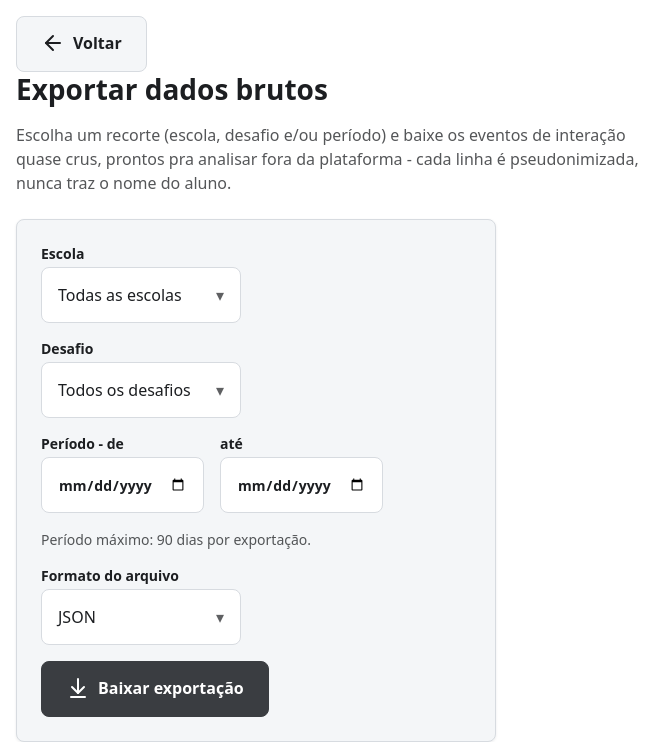
Test: AdminExport › rejects an incomplete period (only "from" filled) client-side, before hitting the API
Type "2026-01-01" into the date field labelled "Período - de" at (122, 485), box x1=41 y1=457 x2=204 y2=513
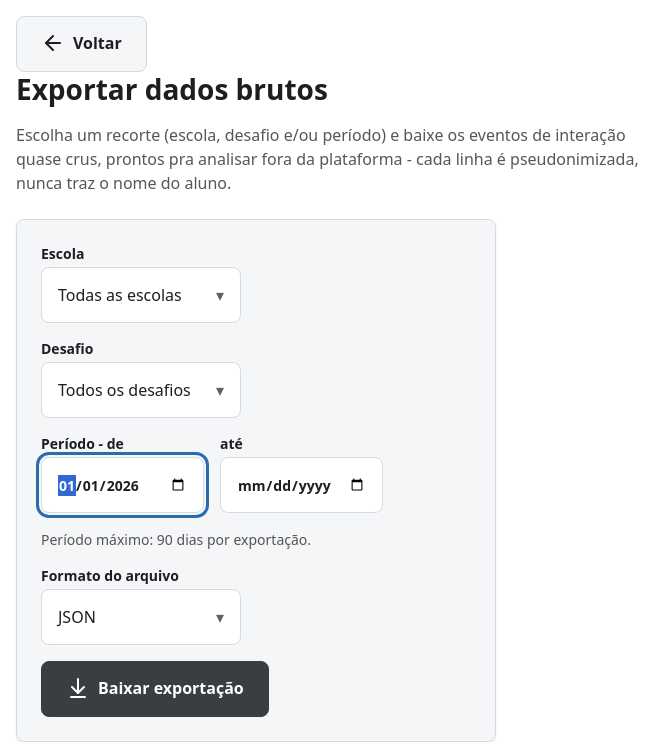
Click the button "Baixar exportação" at (155, 689), box x1=41 y1=661 x2=269 y2=717
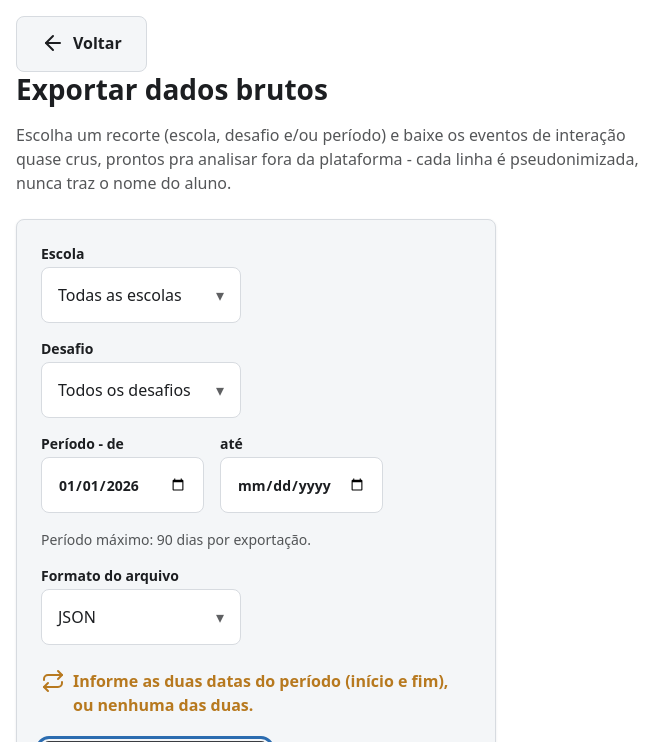
Result: the text "Informe as duas datas do período" is shown at x1=73 y1=670 x2=448 y2=716
